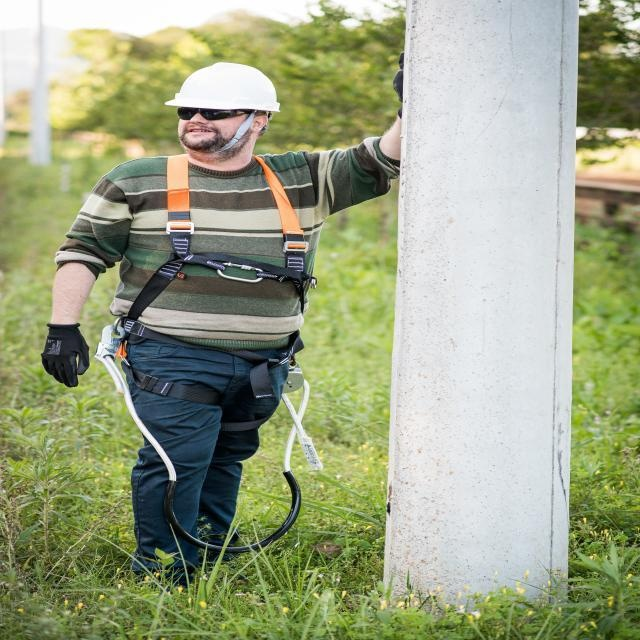Arnes_seguridad: (95, 148, 325, 436)
